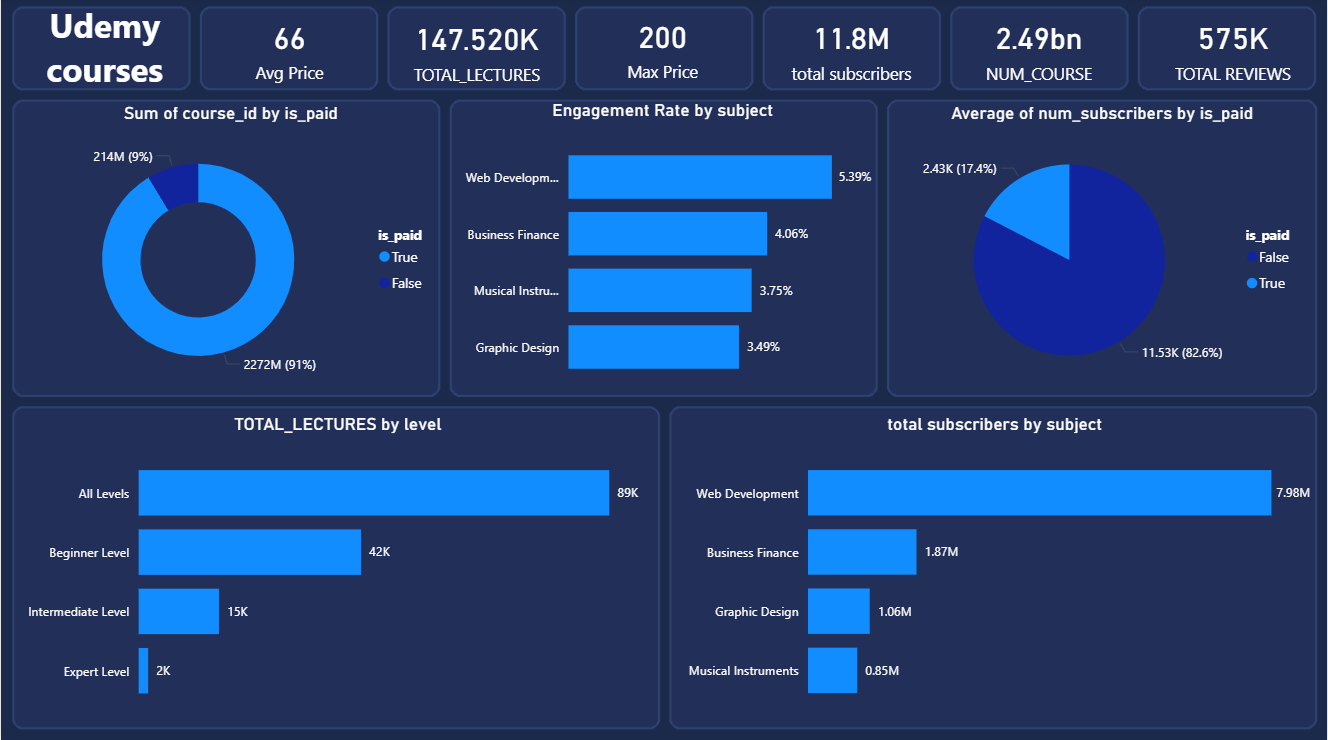

What the dashboard file says about the page in this screenshot:
{"tool":"powerbi","page":{"name":"Page 4","canvas":[1280,720],"ordinal":0},"visuals":[{"type":"card","fields":{"Values":["udemy_courses.Avg Price"]},"box":[200.3,3.6,156.8,90.5],"z":0},{"type":"card","fields":{"Values":["new messure.Max Price"]},"box":[553.8,6.2,170,83.8],"z":2000},{"type":"card","fields":{"Values":["new messure.total subscribers"]},"box":[736.2,10,170,80],"z":3000},{"type":"card","fields":{"Values":["new messure.TOTAL REVIEWS"]},"box":[1097.5,10,182.5,80],"z":4000},{"type":"card","fields":{"Values":["new messure.TOTAL_LECTURES"]},"box":[376.2,10,166.2,81.2],"z":5000},{"type":"card","fields":{"Values":["new messure.NUM_COURSE"]},"box":[916.2,10,172.5,80],"z":6000},{"type":"clusteredBarChart","fields":{"Category":["udemy_courses.level"],"Y":["new messure.TOTAL_LECTURES"]},"box":[12.1,401.7,626.1,300.4],"z":7000},{"type":"clusteredBarChart","fields":{"Category":["udemy_courses.subject"],"Y":["new messure.total subscribers"]},"box":[648.8,401.2,620,300],"z":8000},{"type":"pieChart","fields":{"Category":["udemy_courses.is_paid"],"Y":["Avg(udemy_courses.num_subscribers)"]},"box":[856.2,101.2,412.5,286.2],"z":9000},{"type":"donutChart","fields":{"Category":["udemy_courses.is_paid"],"Y":["Sum(udemy_courses.course_id)"]},"box":[12.1,101.3,419.8,285.9],"z":10000},{"type":"barChart","fields":{"Category":["udemy_courses.subject"],"Y":["new messure.Engagement Rate"]},"box":[432.5,98.8,413.8,288.8],"z":11000},{"type":"textbox","box":[0,0,200.3,101.3],"z":12000}]}

Visuals, with their boxes in screenshot pixels (x1, y1, x2, y2), scaled from the page's 1280x720 canvas onto the 1328x740 screenshot:
card - udemy_courses.Avg Price: (208, 4, 370, 97)
card - new messure.Max Price: (575, 6, 751, 92)
card - new messure.total subscribers: (764, 10, 940, 92)
card - new messure.TOTAL REVIEWS: (1139, 10, 1327, 92)
card - new messure.TOTAL_LECTURES: (390, 10, 563, 94)
card - new messure.NUM_COURSE: (951, 10, 1130, 92)
clusteredBarChart - udemy_courses.level x new messure.TOTAL_LECTURES: (13, 413, 662, 722)
clusteredBarChart - udemy_courses.subject x new messure.total subscribers: (673, 412, 1316, 721)
pieChart - udemy_courses.is_paid x Avg(udemy_courses.num_subscribers): (888, 104, 1316, 398)
donutChart - udemy_courses.is_paid x Sum(udemy_courses.course_id): (13, 104, 448, 398)
barChart - udemy_courses.subject x new messure.Engagement Rate: (449, 102, 878, 398)
textbox: (0, 0, 208, 104)
